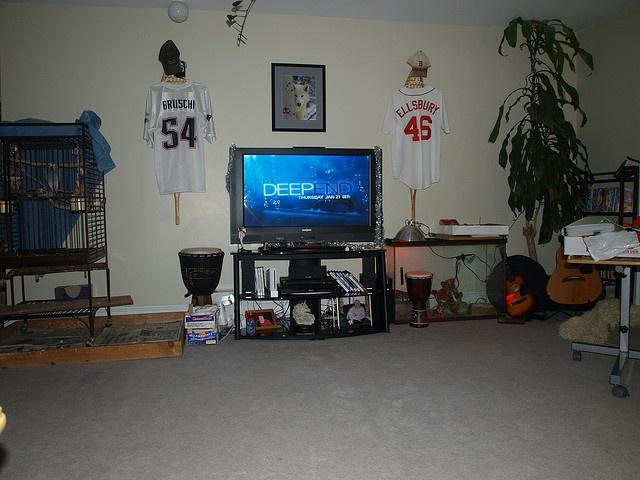AIO PC-Monitor-TV: (228, 145, 381, 246)
